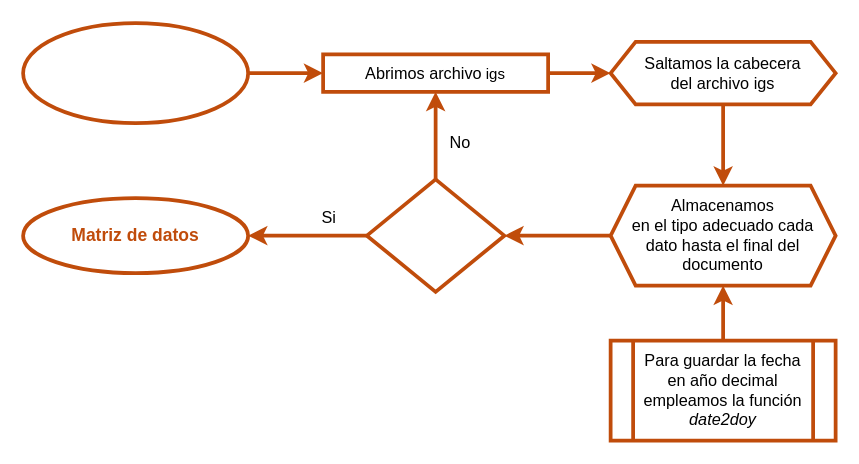
The diagram is 859 pixels wide and 464 high, and some of its shapes have lost their labels. The centre of each missing label's shape, as x and y in pixels:
"Leemos el nº de archivos igs del directorio de entrada" goes at (x=135, y=72).
"¿Es el último archivo?" goes at (x=435, y=235).
